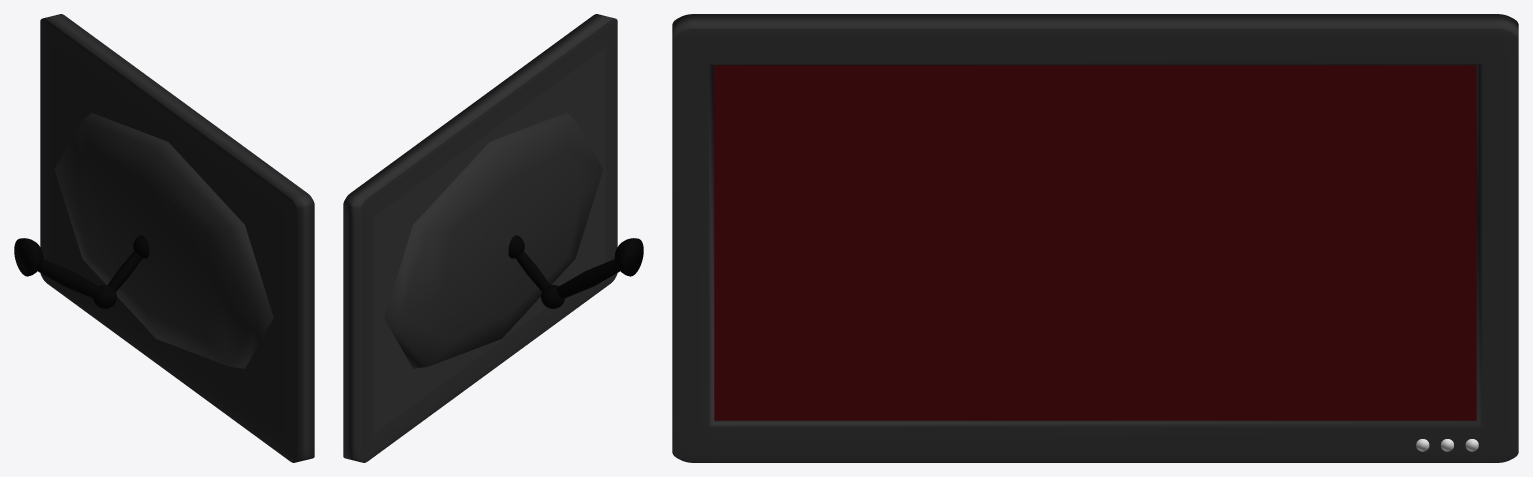
3 views of the same model, side by side, from view 1: azimuth 30°, elevation 25°; view 2: azimuth 150°, elevation 25°; view 3: azimuth 270°, elevation 25° (orthographic). The views are drawn at different scales.
Parts seen in each view (by area): view 1: TVFrame, TVBack, Cube.001, Sphere.002, Cube, Sphere; view 2: TVFrame, TVBack, Cube.001, Sphere.002, Cube, Sphere; view 3: Screen, TVFrame.
Part boxes in pixels (left/top/right/bottom): TVFrame: left=40, top=14, right=314, bottom=462; TVBack: left=54, top=112, right=273, bottom=368; Cube.001: left=38, top=259, right=101, bottom=298; Sphere.002: left=14, top=238, right=43, bottom=276; Cube: left=108, top=251, right=142, bottom=291; Sphere: left=93, top=285, right=116, bottom=308; TVFrame: left=343, top=14, right=617, bottom=462; TVBack: left=384, top=112, right=603, bottom=368; Cube.001: left=556, top=259, right=619, bottom=298; Sphere.002: left=614, top=238, right=643, bottom=276; Cube: left=515, top=251, right=549, bottom=291; Sphere: left=541, top=285, right=564, bottom=308; Screen: left=714, top=65, right=1476, bottom=420; TVFrame: left=672, top=14, right=1518, bottom=462.
Bounding box in the file's own units: 221 × 340 × 600.
